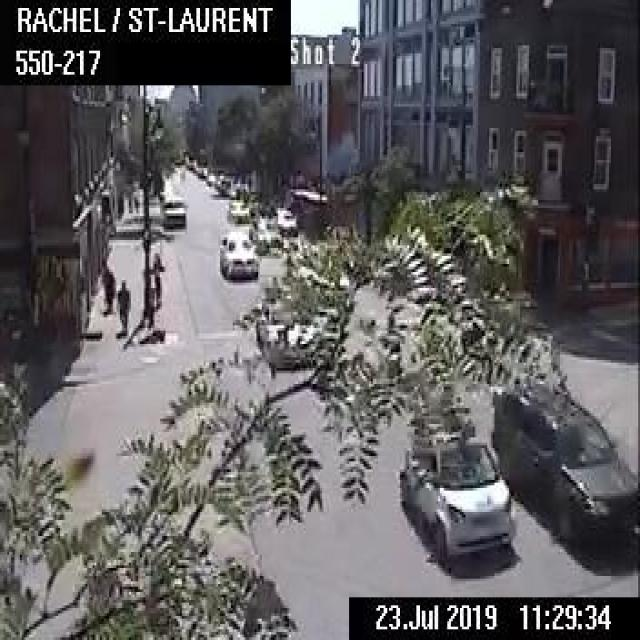pedestrian: (115, 277, 131, 336), (98, 259, 114, 313), (151, 248, 164, 299)
vehicle: (488, 379, 638, 547), (398, 430, 511, 560), (254, 290, 319, 362), (216, 229, 254, 277), (248, 212, 283, 254), (158, 194, 186, 227), (224, 196, 248, 220)
